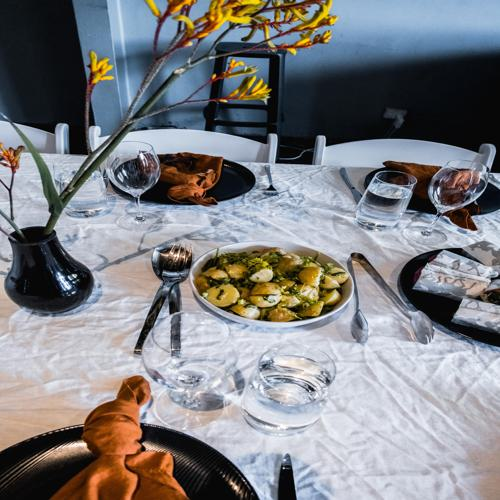copa: (142, 313, 238, 412), (400, 156, 487, 247), (101, 141, 177, 233)
vaso: (246, 340, 341, 429), (50, 155, 119, 218), (360, 166, 416, 234)
